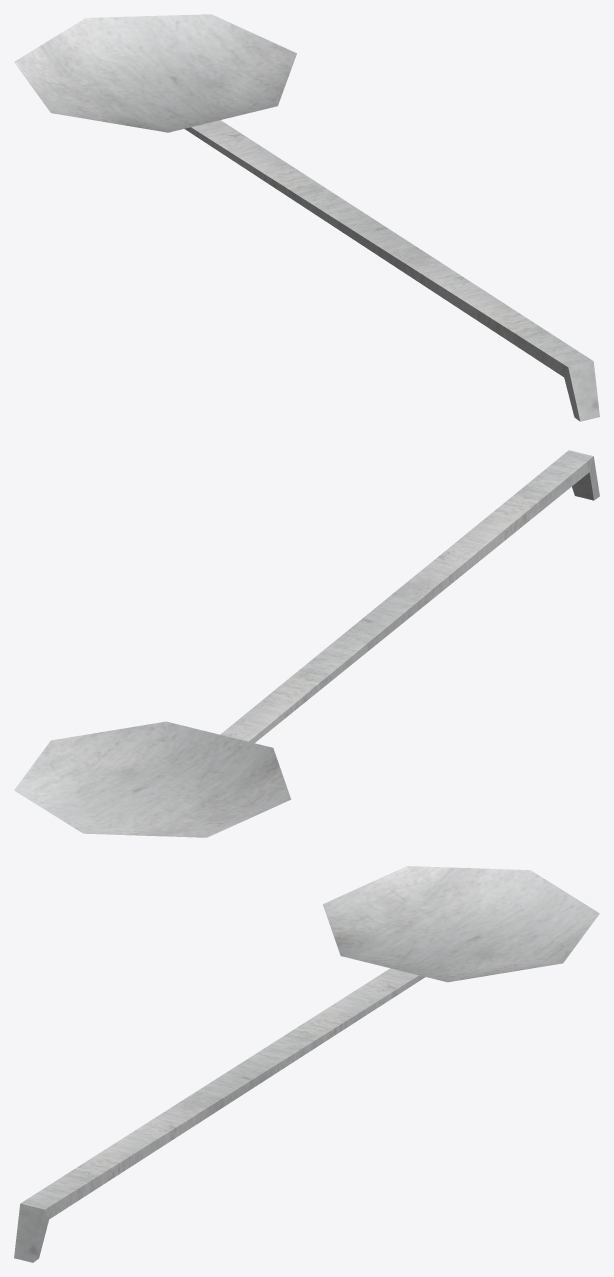
The model's file is M_Home_Garden_Bestek12.fbx.
The picture shows the model from 3 angles, top to bottom: view 1: azimuth 30°, elevation 25°; view 2: azimuth 150°, elevation 25°; view 3: azimuth 330°, elevation 25°; orthographic projection. The views are drawn at different scales.
Parts seen in each view (by area): view 1: M_Home_Garden_Bestek12; view 2: M_Home_Garden_Bestek12; view 3: M_Home_Garden_Bestek12.
Boxes of the visible parts, x1=… form: M_Home_Garden_Bestek12: x1=14, y1=14, x2=599, y2=421; M_Home_Garden_Bestek12: x1=14, y1=450, x2=599, y2=837; M_Home_Garden_Bestek12: x1=14, y1=866, x2=599, y2=1262.
Bounding box in the file's own units: 16.67 × 3.13 × 60.01.
